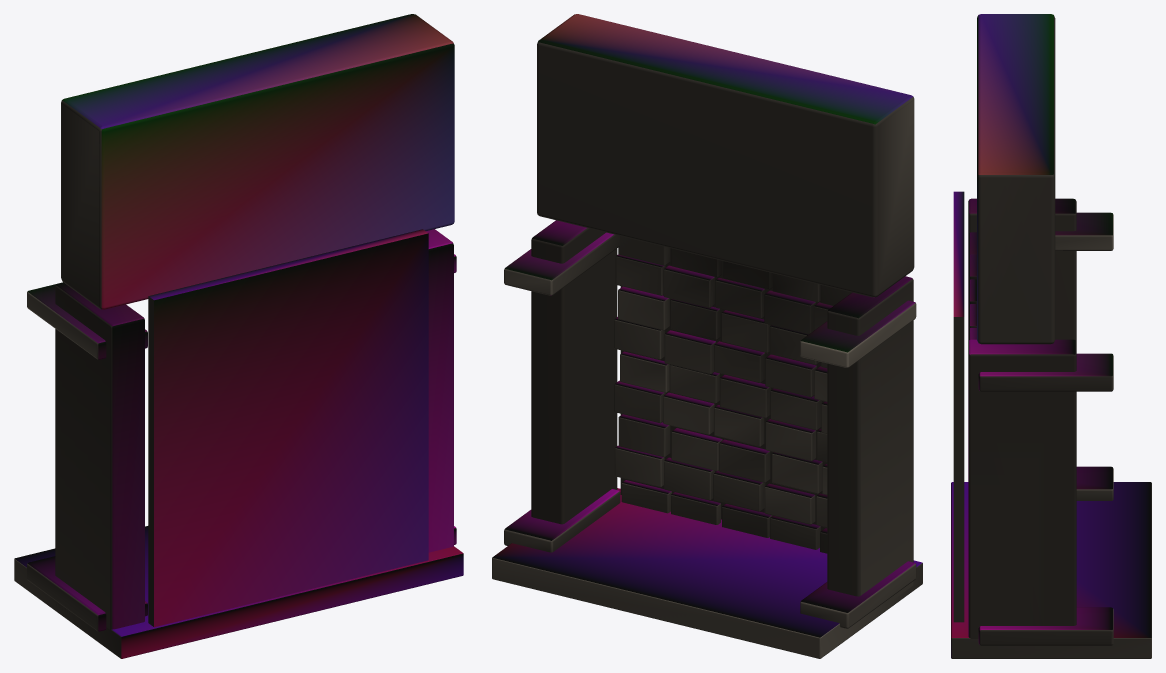
The model's file is StudyStone.fbx.
The picture shows the model from 3 angles, left to right: view 1: azimuth 30°, elevation 25°; view 2: azimuth 150°, elevation 25°; view 3: azimuth 270°, elevation 25°; orthographic projection. The views are drawn at different scales.
Parts seen in each view (by area): view 1: StudyStone; view 2: StudyStone; view 3: StudyStone.
Boxes of the visible parts, x1,y1,x2,y2 form: StudyStone: (14, 14, 463, 658); StudyStone: (492, 14, 922, 658); StudyStone: (951, 14, 1151, 658).
Bounding box in the file's own units: 734 × 1019 × 380.
